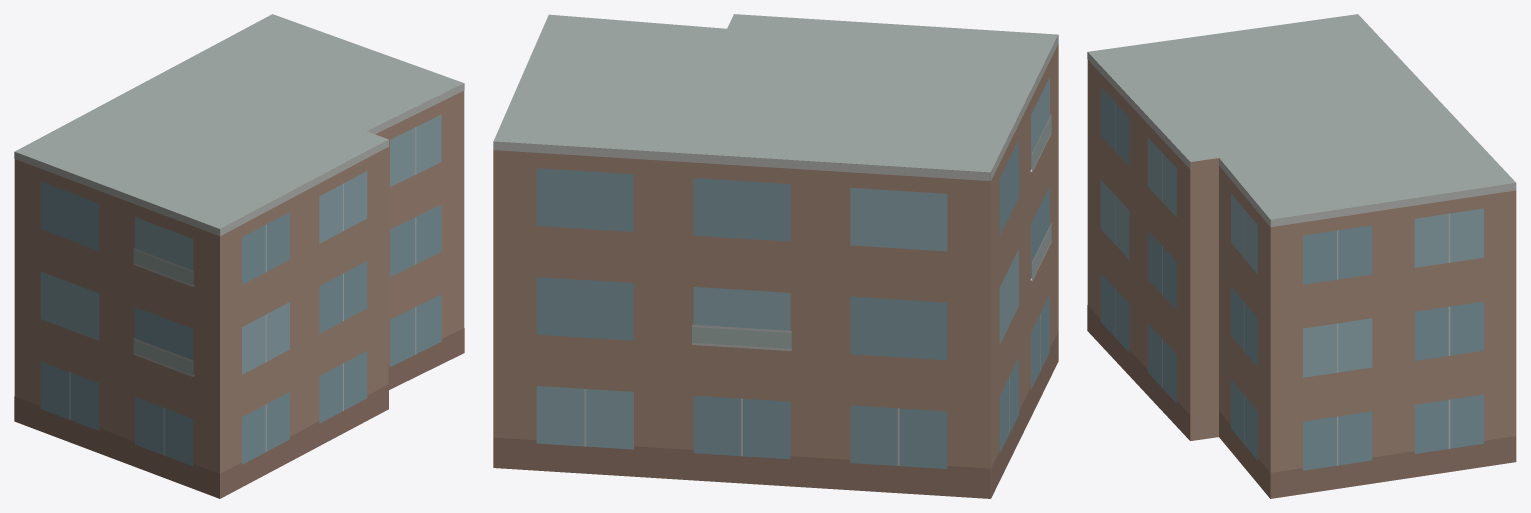
The model's file is survey-upis-32885649.glb.
3 views of the same model, side by side, from view 1: azimuth 30°, elevation 25°; view 2: azimuth 150°, elevation 25°; view 3: azimuth 270°, elevation 25° (orthographic). The views are drawn at different scales.
Parts seen in each view (by area): view 1: survey-upis-32885649.tmp; view 2: survey-upis-32885649.tmp; view 3: survey-upis-32885649.tmp.
Part boxes in pixels (x1,y1,x2,y2): survey-upis-32885649.tmp: (14,14,464,498); survey-upis-32885649.tmp: (493,14,1058,498); survey-upis-32885649.tmp: (1087,14,1516,498).
Size of the model in its own units: 14.48 by 9.15 by 12.75.
